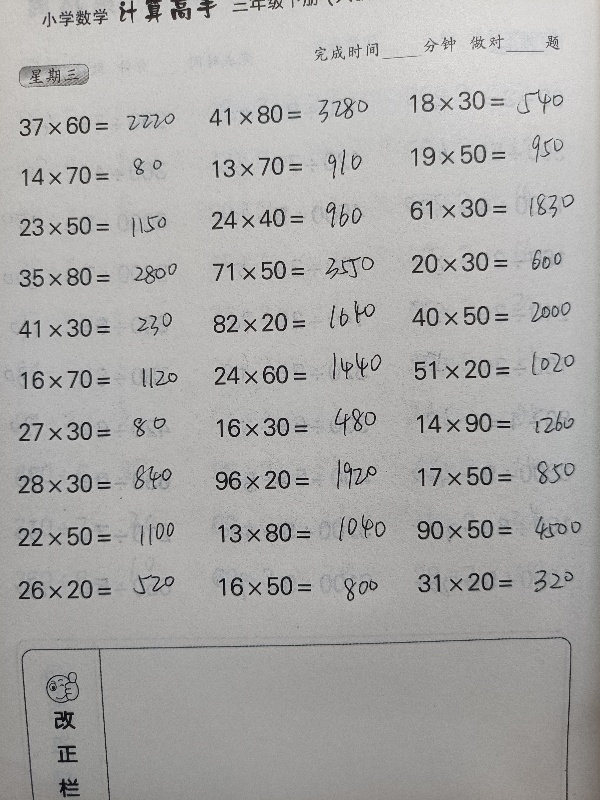equation: (408, 512, 588, 549), (10, 572, 190, 607), (209, 568, 389, 603), (409, 564, 589, 599), (10, 519, 190, 554), (208, 515, 388, 550), (9, 466, 189, 501), (206, 462, 386, 497), (410, 459, 590, 494), (407, 405, 587, 440), (205, 357, 385, 392), (405, 351, 585, 386), (10, 310, 190, 345), (403, 298, 583, 333), (204, 253, 384, 288), (402, 244, 582, 279), (401, 191, 581, 226), (203, 149, 383, 184), (402, 137, 582, 172), (400, 83, 580, 118), (10, 414, 190, 448), (208, 410, 388, 444), (12, 362, 192, 396), (204, 305, 384, 339), (10, 260, 190, 294), (11, 209, 191, 243), (203, 201, 383, 235), (12, 158, 192, 192), (200, 98, 380, 132), (10, 109, 190, 142)
